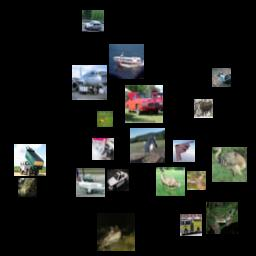airplane: (72, 65, 107, 100), (76, 168, 105, 197), (173, 140, 195, 162)
automobile: (125, 85, 163, 123), (107, 169, 129, 191), (82, 10, 104, 32)
bird: (212, 147, 247, 182), (156, 167, 185, 196), (212, 68, 231, 87)
cat: (92, 138, 114, 160), (18, 178, 37, 197)
deer: (187, 171, 206, 190), (194, 99, 213, 118), (97, 111, 113, 127)
frog: (97, 213, 135, 251), (206, 202, 238, 234)
ship: (109, 44, 144, 79)
truck: (14, 144, 46, 176), (180, 214, 202, 236)
